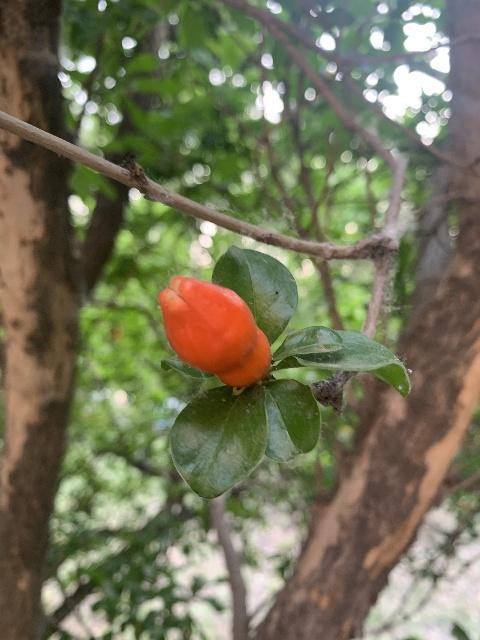bud: (158, 276, 271, 388)
